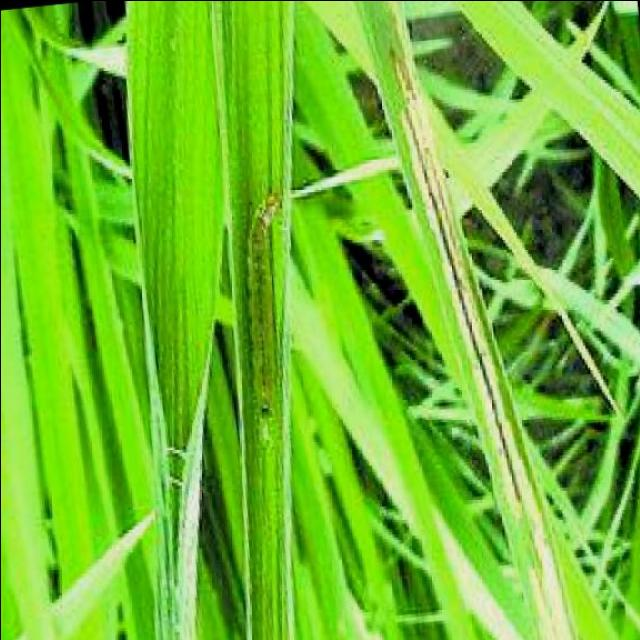leaf folder: (256, 193, 279, 231)
